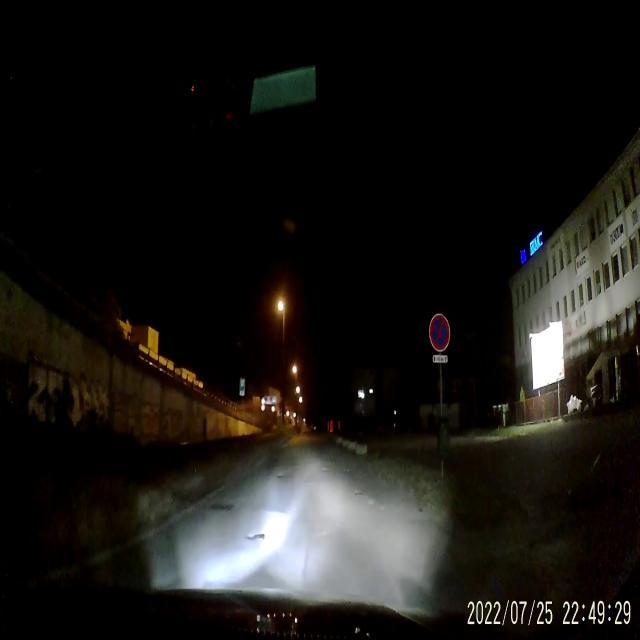Manhole: (206, 496, 237, 516)
Pothole: (244, 526, 268, 548), (352, 484, 366, 498), (272, 473, 290, 482), (320, 464, 330, 476), (342, 468, 354, 477)
